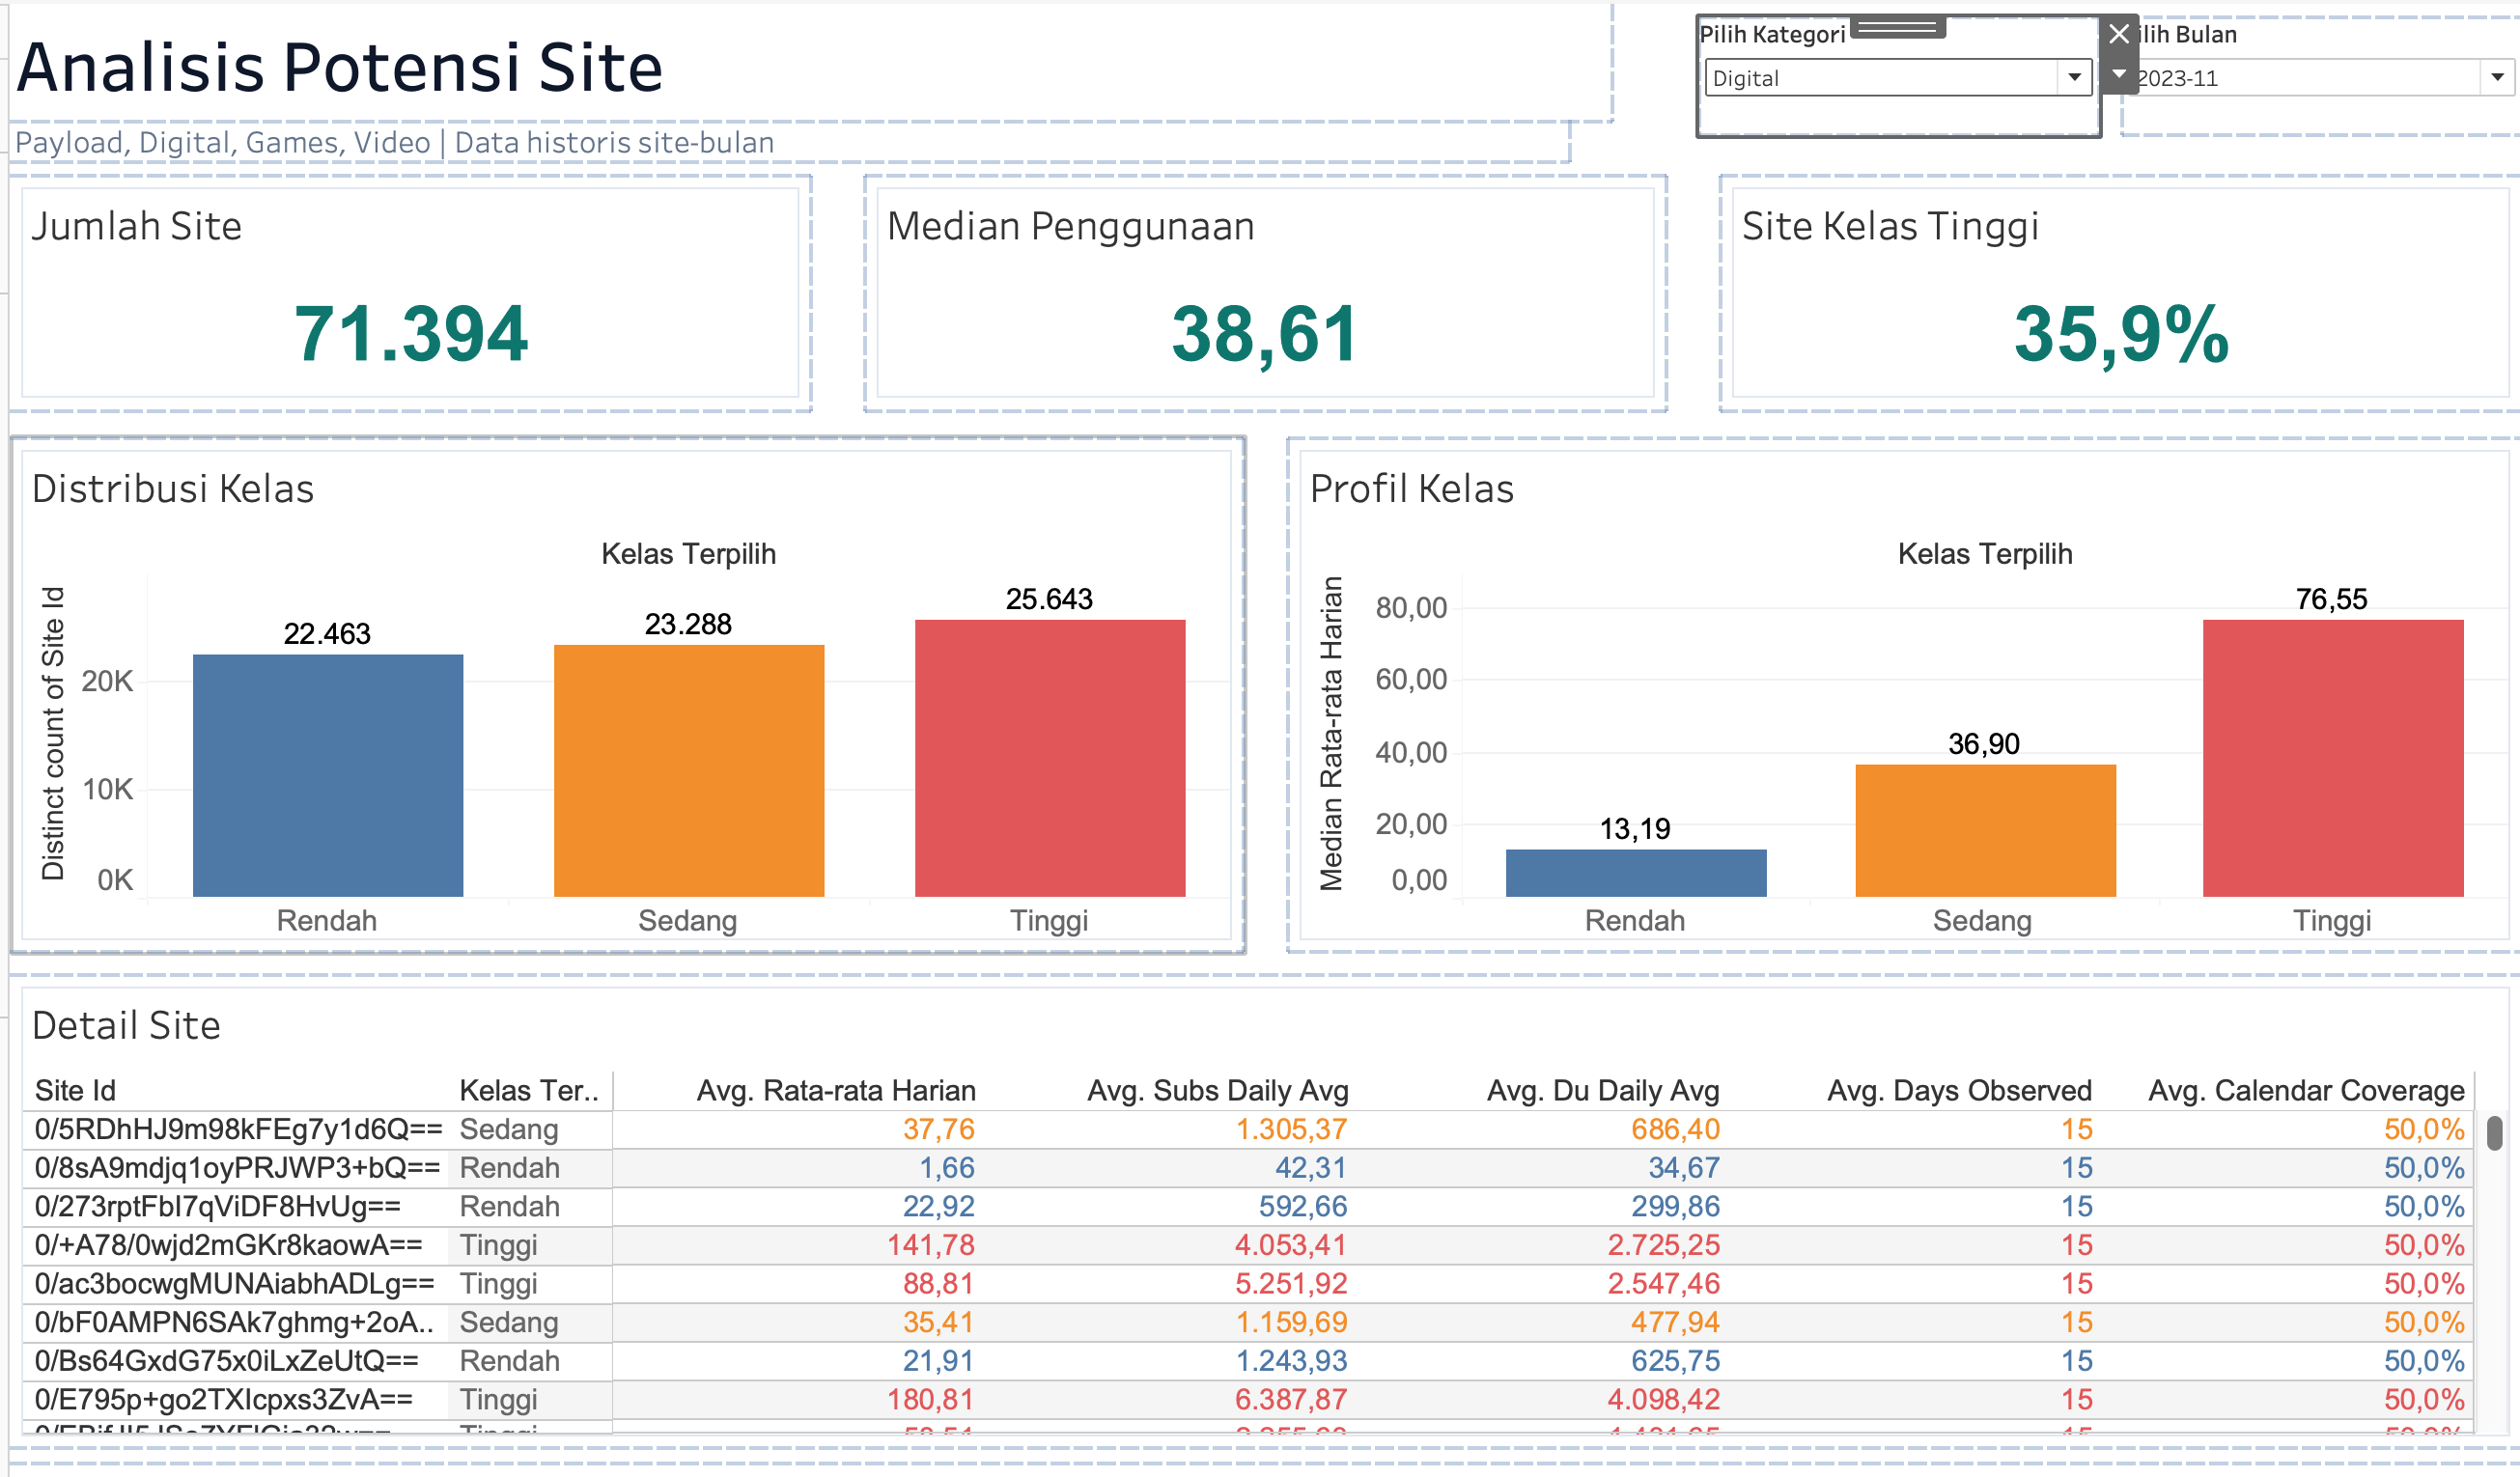

This screenshot's page, from the dashboard's own definition file:
{"tool":"tableau","page":{"name":"Dashboard Potensi Site","canvas":[1000,1000],"units":"permille","ordinal":0},"visuals":[{"type":"text","box":[16.7,13.3,616.7,72.2]},{"type":"parameter","param":"[Parameters].[Kategori]","box":[666.7,22.2,154.2,72.2]},{"type":"parameter","param":"[Parameters].[Bulan]","box":[829.2,22.2,154.2,72.2]},{"type":"text","box":[16.7,73.3,600,37.8]},{"type":"worksheet","title":"Jumlah Site","mark":"Text","box":[16.7,120,308.3,144.4]},{"type":"worksheet","title":"Median Penggunaan","mark":"Text","box":[345.8,120,308.3,144.4]},{"type":"worksheet","title":"Site Kelas Tinggi","mark":"Text","box":[675,120,308.3,144.4]},{"type":"worksheet","title":"Distribusi Kelas","mark":"Bar","rows":["site_id"],"cols":["Kelas"],"box":[16.7,282.2,475,316.7]},{"type":"worksheet","title":"Profil Kelas","mark":"Bar","rows":["Nilai"],"cols":["Kelas"],"box":[508.3,282.2,475,316.7]},{"type":"worksheet","title":"Detail Site","mark":"Text","rows":["site_id","Kelas"],"box":[16.7,613.3,966.7,292.2]},{"type":"text","box":[16.7,915.6,966.7,72.2]}]}

Visuals, with their boxes on the dashboard's canvas, which has no fixed pixel size, in thousandths of its width and height (x1, y1, x2, y2). These are canvas units, not pixel positions in the 2520x1477 screenshot, which may show the page scaled, cropped or inside an application window:
text: 17,13,633,86
parameter: 667,22,821,94
parameter: 829,22,983,94
text: 17,73,617,111
"Jumlah Site" worksheet (Text marks): 17,120,325,264
"Median Penggunaan" worksheet (Text marks): 346,120,654,264
"Site Kelas Tinggi" worksheet (Text marks): 675,120,983,264
"Distribusi Kelas" worksheet (Bar marks): 17,282,492,599
"Profil Kelas" worksheet (Bar marks): 508,282,983,599
"Detail Site" worksheet (Text marks): 17,613,983,906
text: 17,916,983,988
